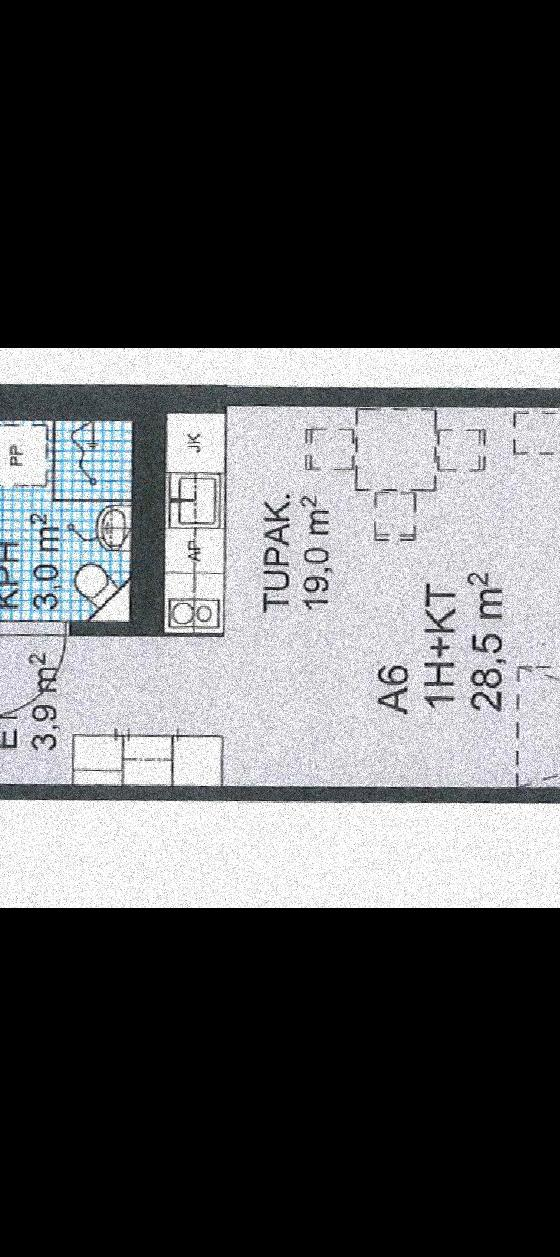door: (0, 611, 69, 723)
zone: (0, 410, 560, 785), (0, 418, 129, 619)
